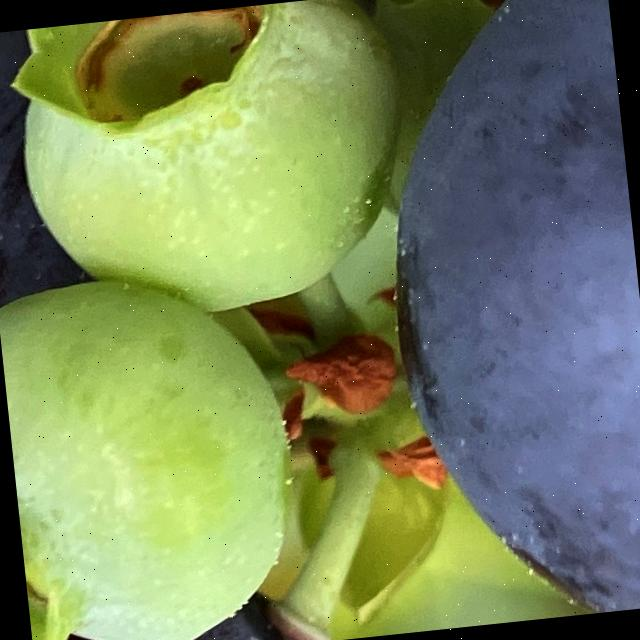Blueberries: (363, 0, 640, 630), (0, 259, 310, 640)
